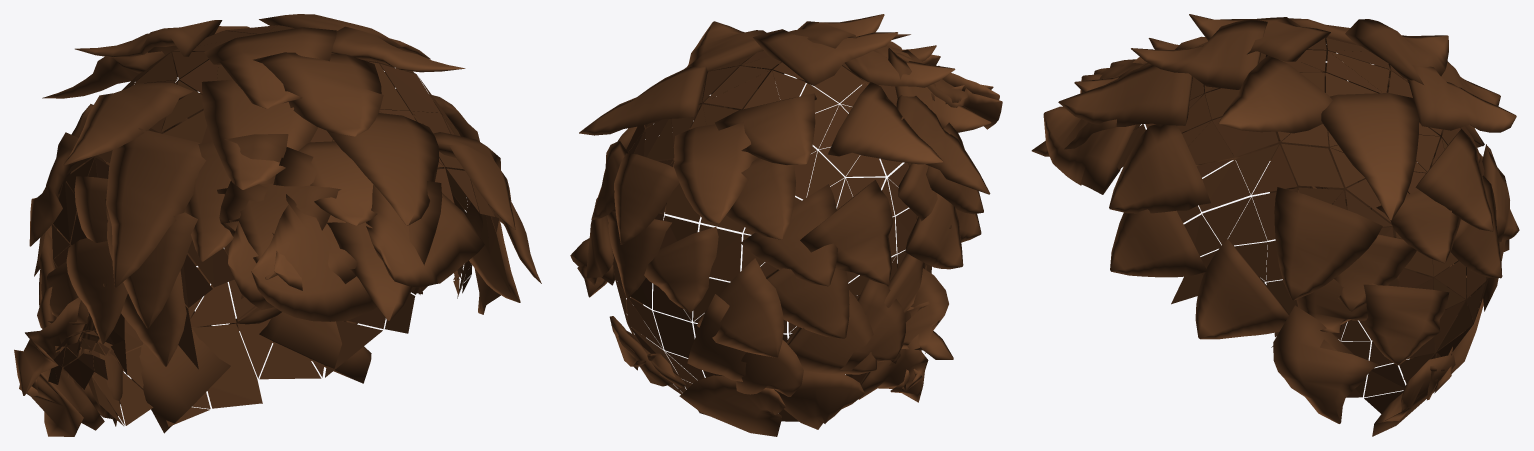
The model's file is kopf.haar.pixie.glb.
The picture shows the model from 3 angles, left to right: view 1: azimuth 30°, elevation 25°; view 2: azimuth 150°, elevation 25°; view 3: azimuth 270°, elevation 25°; orthographic projection. The views are drawn at different scales.
Parts seen in each view (by area): view 1: haar; view 2: haar; view 3: haar.
Boxes of the visible parts, bbox=[...] form: haar: bbox=[14, 14, 541, 436]; haar: bbox=[570, 14, 1002, 436]; haar: bbox=[1031, 14, 1519, 436].
Bounding box in the file's own units: 0.2387 × 0.2116 × 0.2567.
